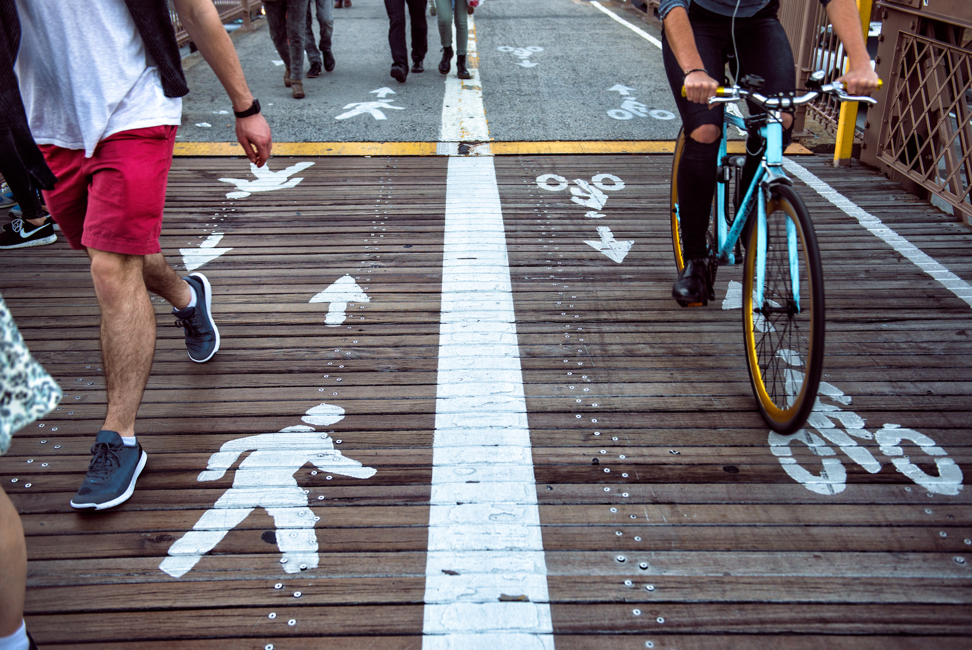Bicycle: (647, 78, 879, 441)
Person: (4, 4, 283, 535)
